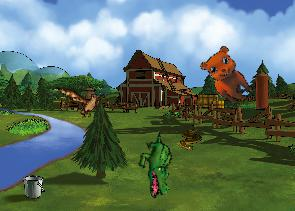bear: (194, 41, 264, 109)
crocodile: (129, 131, 185, 200)
eagle: (57, 79, 109, 122)
